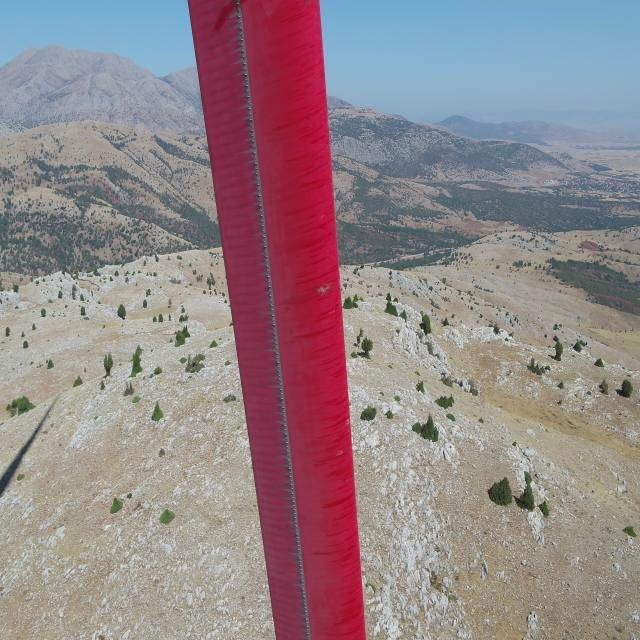Coating_defects: (316, 283, 333, 298)
